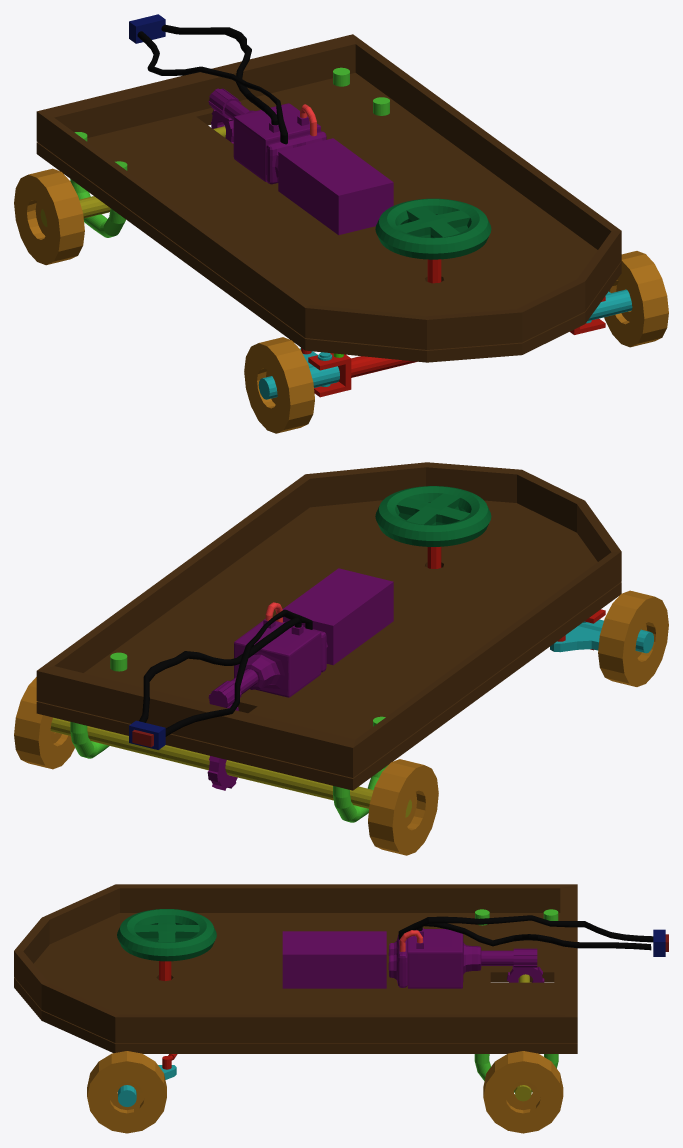
File: MaquetaCorte1.fbx
3 renders of one model, top to bottom at view 1: azimuth 30°, elevation 25°; view 2: azimuth 150°, elevation 25°; view 3: azimuth 270°, elevation 25°, orthographic. The views are drawn at different scales.
Visible parts, largest first — view 1: BasePrincipal, paredes, LlantasDelanteras, bateria, olante, LlantasDelanteras.001, Motor, DireccionPart2, DireccionPart1, clip, cable negro 2, cable negro1 (+3 smaller); view 2: BasePrincipal, paredes, LlantasDelanteras.001, bateria, olante, LlantasDelanteras, Motor, LlantasDelanteras.002, clip, cable negro1, cable negro 2, Engranaje2 (+3 smaller); view 3: BasePrincipal, paredes, bateria, LlantasDelanteras.001, LlantasDelanteras, olante, Motor, cable negro 2, cable negro1, Engranaje2, clip, conexion (+1 smaller).
Boxes of the visible parts, x1,y1,x2,y2 form: BasePrincipal: [36, 72, 621, 362]; paredes: [36, 34, 621, 349]; LlantasDelanteras: [244, 251, 668, 433]; bateria: [278, 138, 393, 235]; olante: [375, 198, 491, 259]; LlantasDelanteras.001: [14, 168, 84, 265]; Motor: [233, 103, 320, 181]; DireccionPart2: [308, 259, 605, 397]; DireccionPart1: [258, 289, 632, 399]; clip: [70, 67, 389, 237]; cable negro 2: [137, 31, 287, 144]; cable negro1: [161, 24, 278, 125]; BasePrincipal: [36, 500, 621, 790]; paredes: [36, 462, 621, 777]; LlantasDelanteras.001: [14, 677, 438, 855]; bateria: [282, 568, 393, 665]; olante: [375, 486, 491, 546]; LlantasDelanteras: [598, 590, 668, 686]; Motor: [234, 621, 321, 697]; LlantasDelanteras.002: [50, 717, 411, 817]; clip: [70, 652, 388, 822]; cable negro1: [139, 617, 301, 722]; cable negro 2: [165, 609, 312, 736]; Engranaje2: [208, 669, 258, 708]; BasePrincipal: [14, 913, 577, 1053]; paredes: [14, 884, 577, 1043]; bateria: [282, 931, 386, 988]; LlantasDelanteras.001: [483, 1051, 563, 1133]; LlantasDelanteras: [87, 1051, 166, 1133]; olante: [117, 909, 216, 961]; Motor: [407, 929, 481, 988]; cable negro 2: [398, 915, 653, 942]; cable negro1: [417, 923, 651, 950]; Engranaje2: [481, 948, 537, 967]; clip: [474, 909, 558, 1092]; conexion: [388, 934, 407, 987].
Size of the model in its own units: 957 by 375 by 1640.
